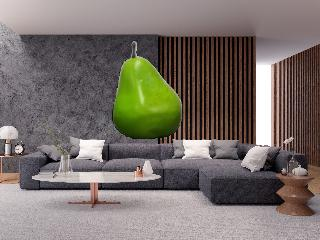pear: (114, 40, 182, 140)
